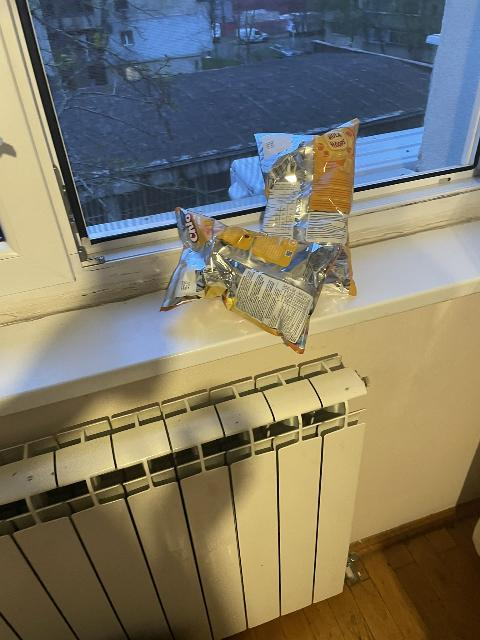Chio Cascaval 125g: (158, 205, 341, 353)
Chio Hula Hoops Cheese 70g: (256, 121, 357, 298)
